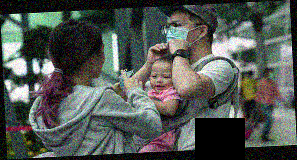with_mask: (165, 16, 198, 54)
without_mask: (149, 70, 174, 95), (92, 44, 107, 80)
